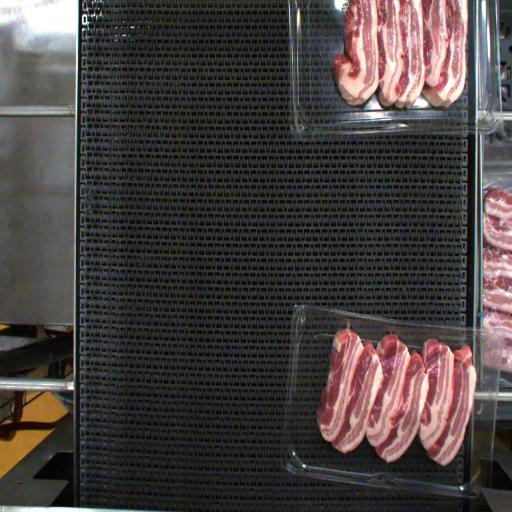packaging-error: (387, 322, 405, 344), (343, 314, 355, 332)
